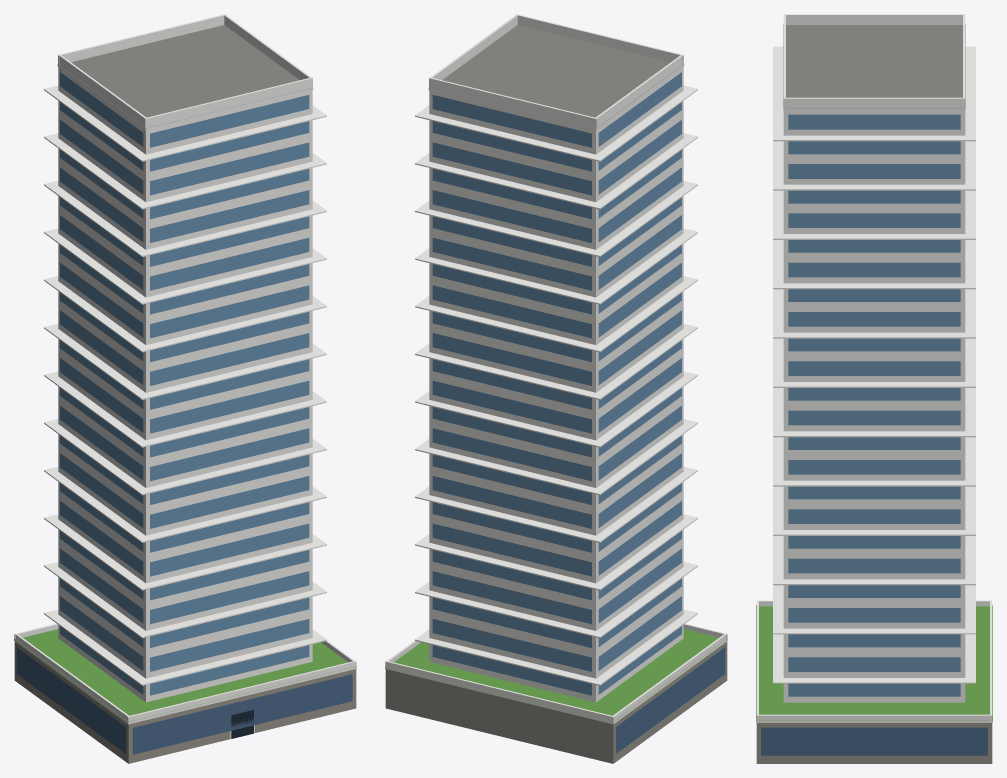
The model's file is tour_residence.glb.
3 views of the same model, side by side, from view 1: azimuth 30°, elevation 25°; view 2: azimuth 150°, elevation 25°; view 3: azimuth 270°, elevation 25° (orthographic). The views are drawn at different scales.
Visible parts, largest first — view 1: tour_residence; view 2: tour_residence; view 3: tour_residence.
Part boxes in pixels (bbox=[...]): tour_residence: bbox=[14, 14, 356, 763]; tour_residence: bbox=[385, 14, 727, 763]; tour_residence: bbox=[756, 14, 992, 763].
Bounding box in the file's own units: 30.1 × 79.1 × 26.1.
Materials: 1 (1 with a texture image).
